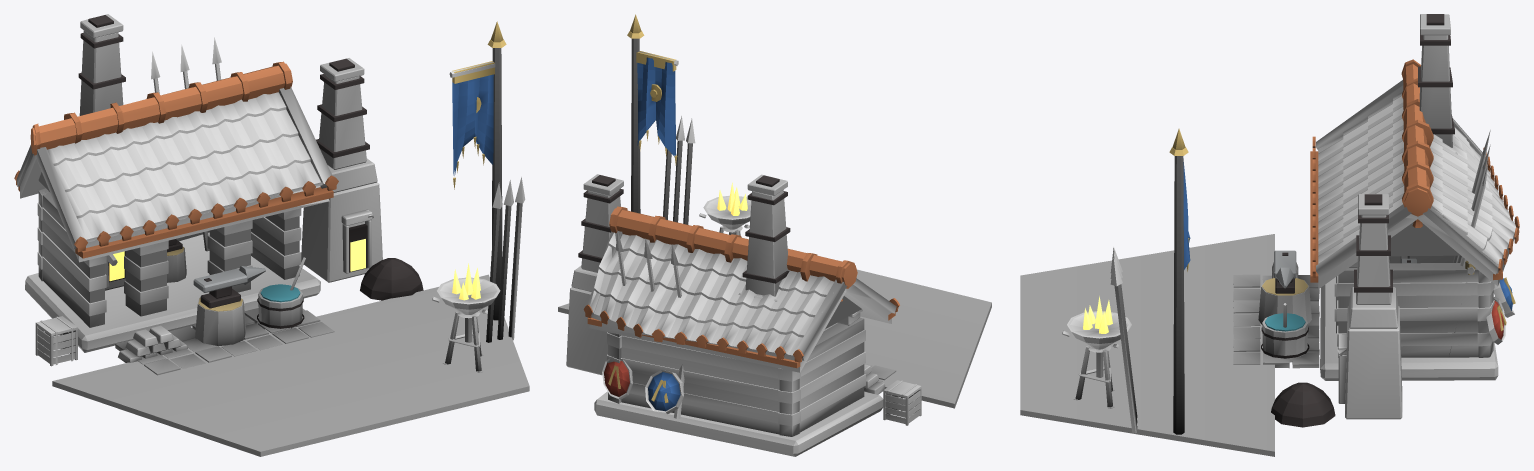
Rendered from forge-l1.glb.
The picture shows the model from 3 angles, left to right: view 1: azimuth 30°, elevation 25°; view 2: azimuth 150°, elevation 25°; view 3: azimuth 270°, elevation 25°; orthographic projection. The views are drawn at different scales.
Visible parts, largest first — view 1: forge-l1; view 2: forge-l1; view 3: forge-l1.
Boxes of the visible parts, x1,y1,x2,y2 form: forge-l1: (14,14,529,456); forge-l1: (558,14,991,456); forge-l1: (1020,14,1519,456).
Size of the model in its own units: 1.43 by 0.9504 by 1.39.
